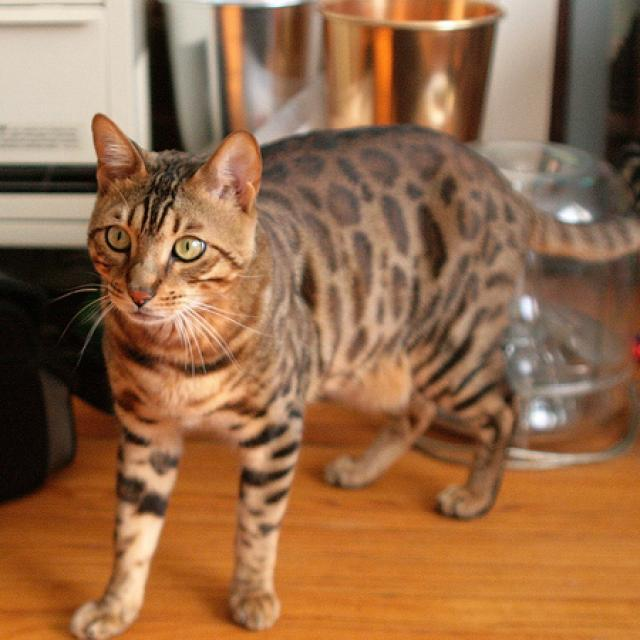Bengal: (65, 96, 639, 640)
